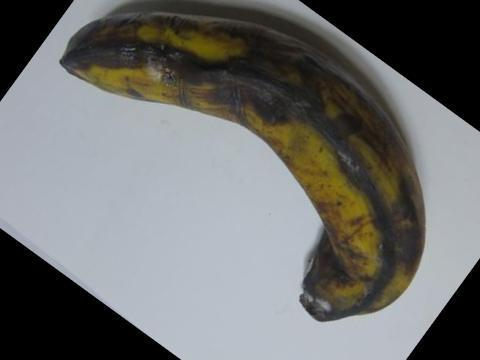overripe: (54, 11, 432, 346)
